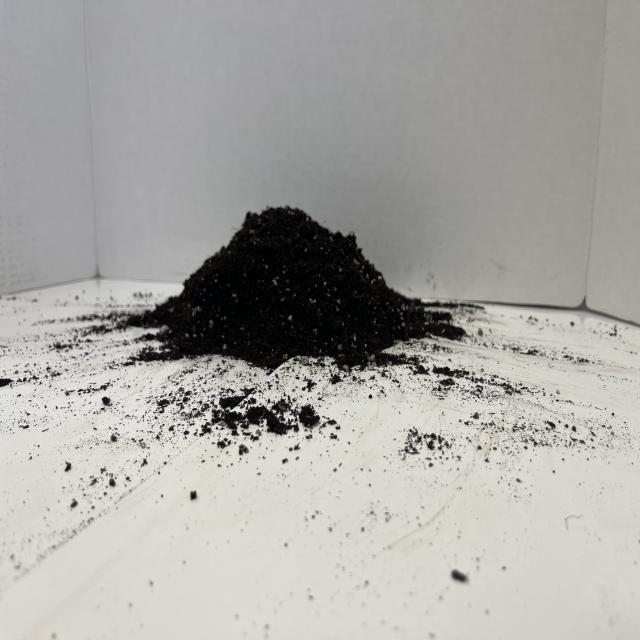soil: (127, 202, 465, 372)
